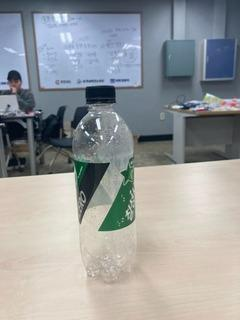BIODEGRADABLE: (71, 81, 138, 286)
